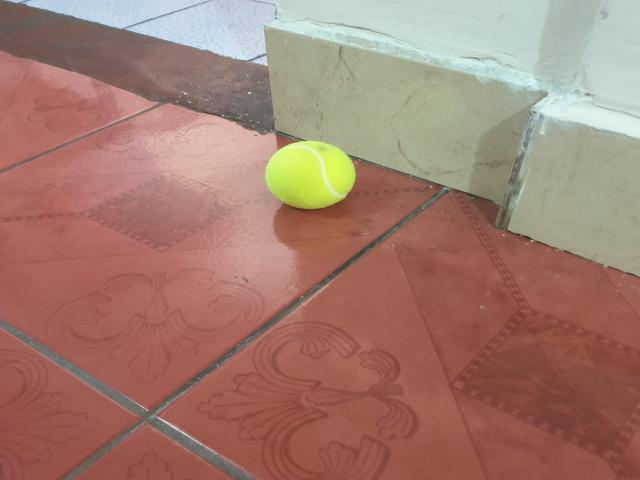tennis-ball: (264, 140, 356, 210)
